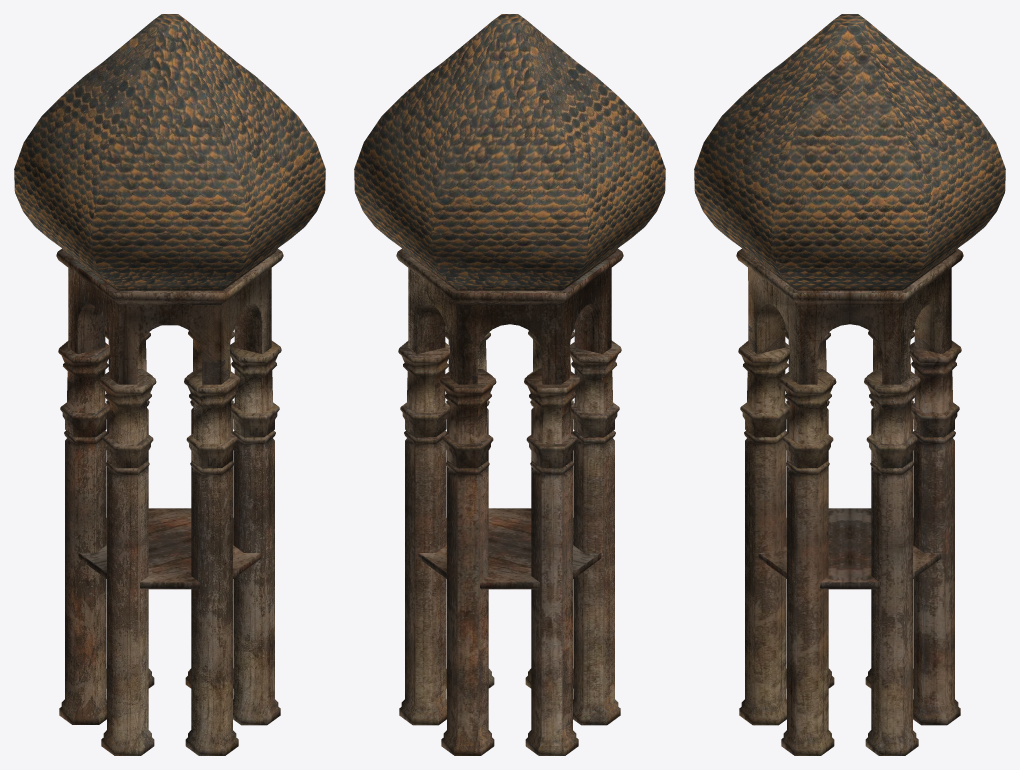
Rendered from onion-dome-tower.glb.
3 renders of one model, left to right at view 1: azimuth 30°, elevation 25°; view 2: azimuth 150°, elevation 25°; view 3: azimuth 270°, elevation 25°, orthographic.
Visible parts, largest first — view 1: onion-dome-tower; view 2: onion-dome-tower; view 3: onion-dome-tower.
Part boxes in pixels (x1,y1,x2,y2): onion-dome-tower: [14, 14, 325, 755]; onion-dome-tower: [354, 14, 665, 755]; onion-dome-tower: [694, 14, 1005, 755].
Size of the model in its own units: 8.97 by 25.5 by 10.36.
3 materials, 3 textured.
